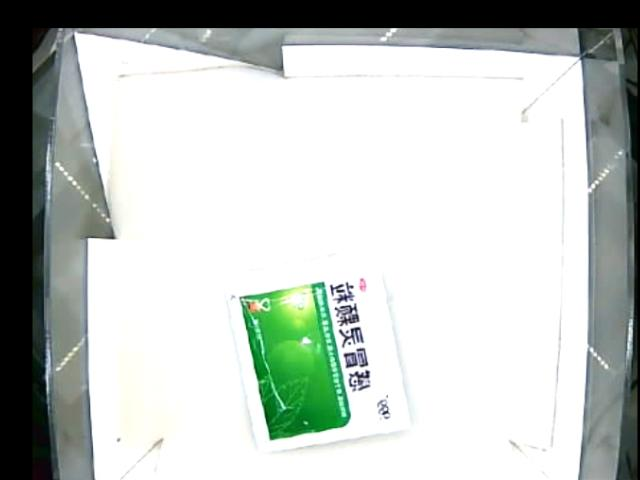Medicine: (222, 242, 413, 453)
